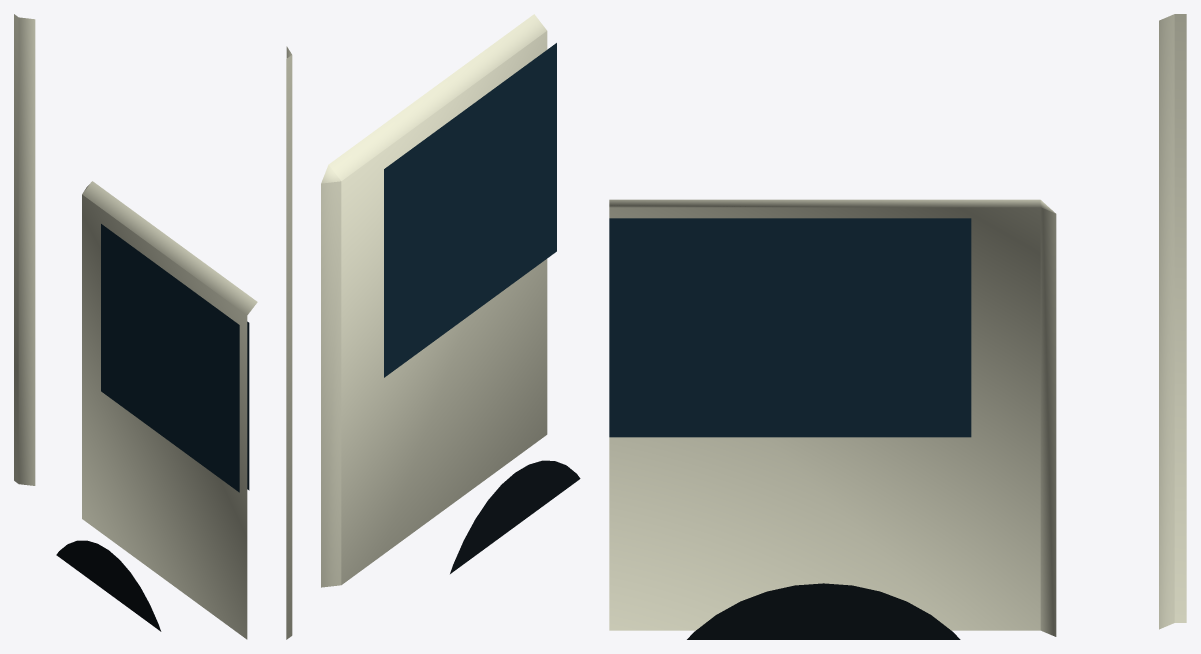
Rendered from ambulance-left.glb.
The picture shows the model from 3 angles, left to right: view 1: azimuth 30°, elevation 25°; view 2: azimuth 150°, elevation 25°; view 3: azimuth 270°, elevation 25°; orthographic projection. The views are drawn at different scales.
Size of the model in its own units: 0.24 by 1.5 by 1.29.
Materials: 1 (1 with a texture image).
